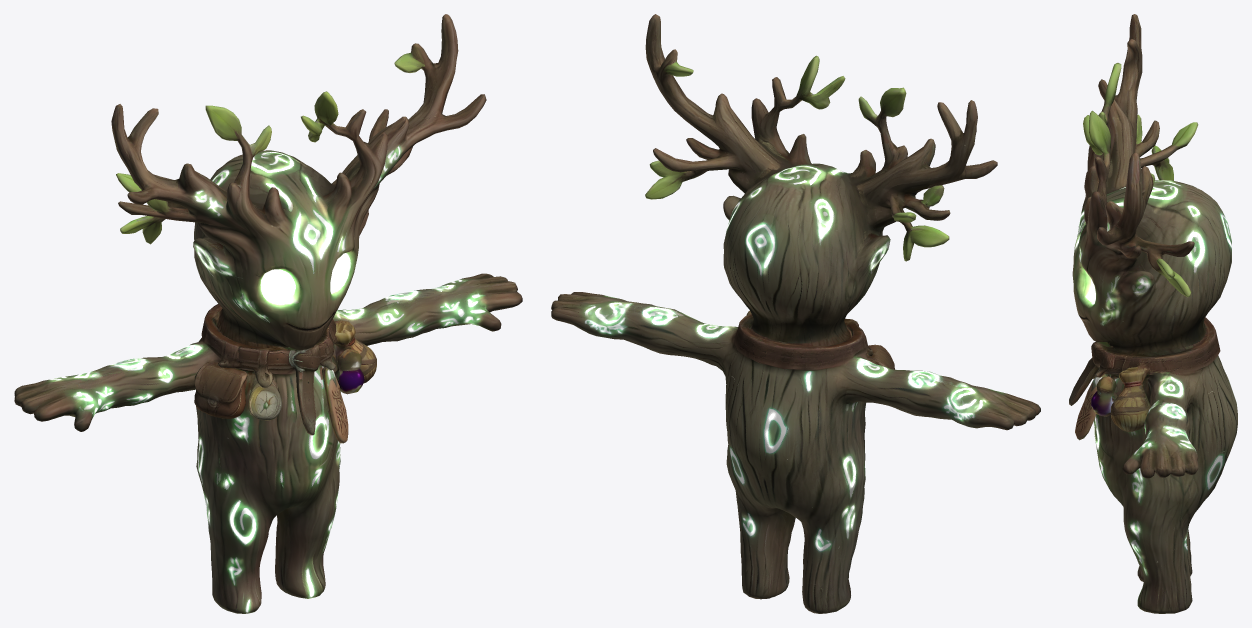
Rendered from Character.glb.
3 views of the same model, side by side, from view 1: azimuth 30°, elevation 25°; view 2: azimuth 150°, elevation 25°; view 3: azimuth 270°, elevation 25° (orthographic). The views are drawn at different scales.
Parts seen in each view (by area): view 1: Mesh_0; view 2: Mesh_0; view 3: Mesh_0.
Boxes of the visible parts, box(x1,y1,x2,y2) form: Mesh_0: box(14, 14, 522, 613); Mesh_0: box(551, 14, 1040, 613); Mesh_0: box(1069, 14, 1237, 613).
Size of the model in its own units: 1.77 by 1.91 by 0.5675.
Materials: 1 (1 with a texture image).
